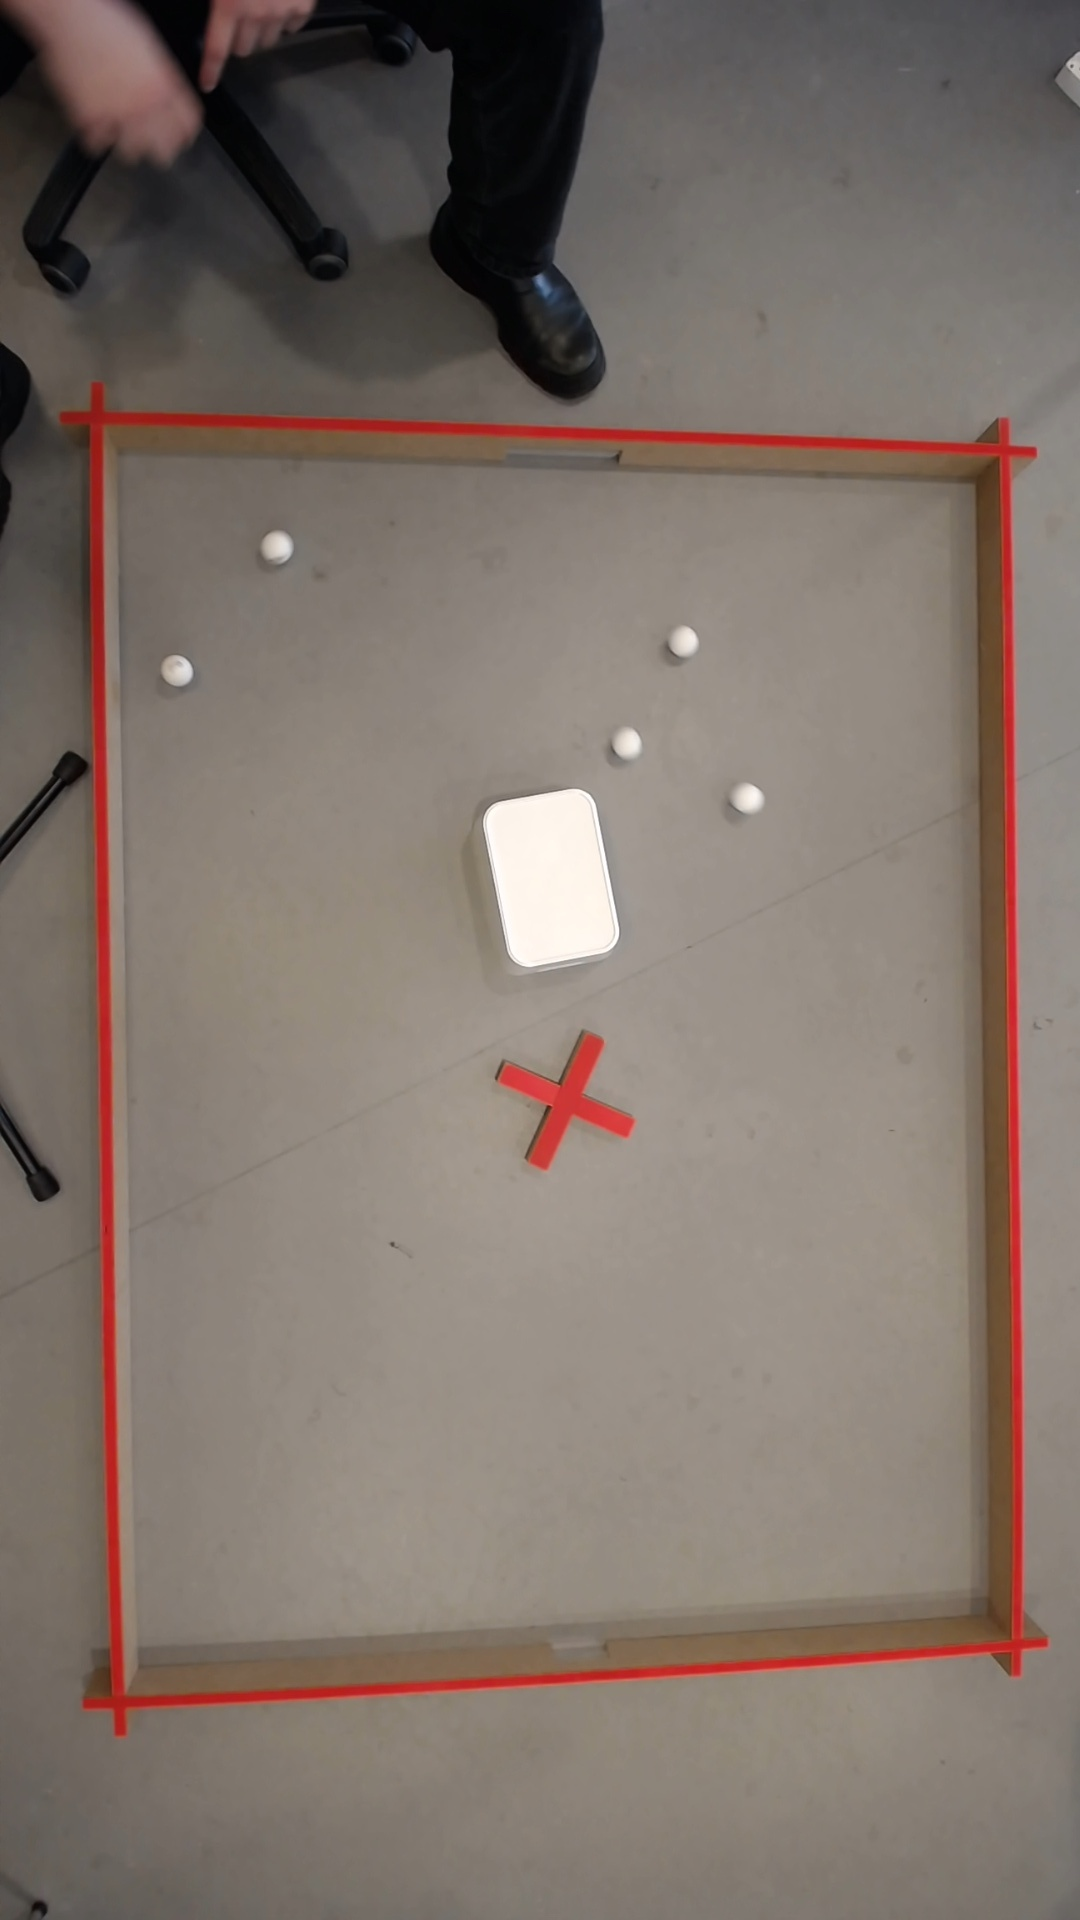balls: (477, 782, 622, 971), (732, 781, 765, 815), (670, 624, 700, 655), (613, 728, 644, 757), (169, 655, 196, 684)
car: (270, 535, 290, 555)
